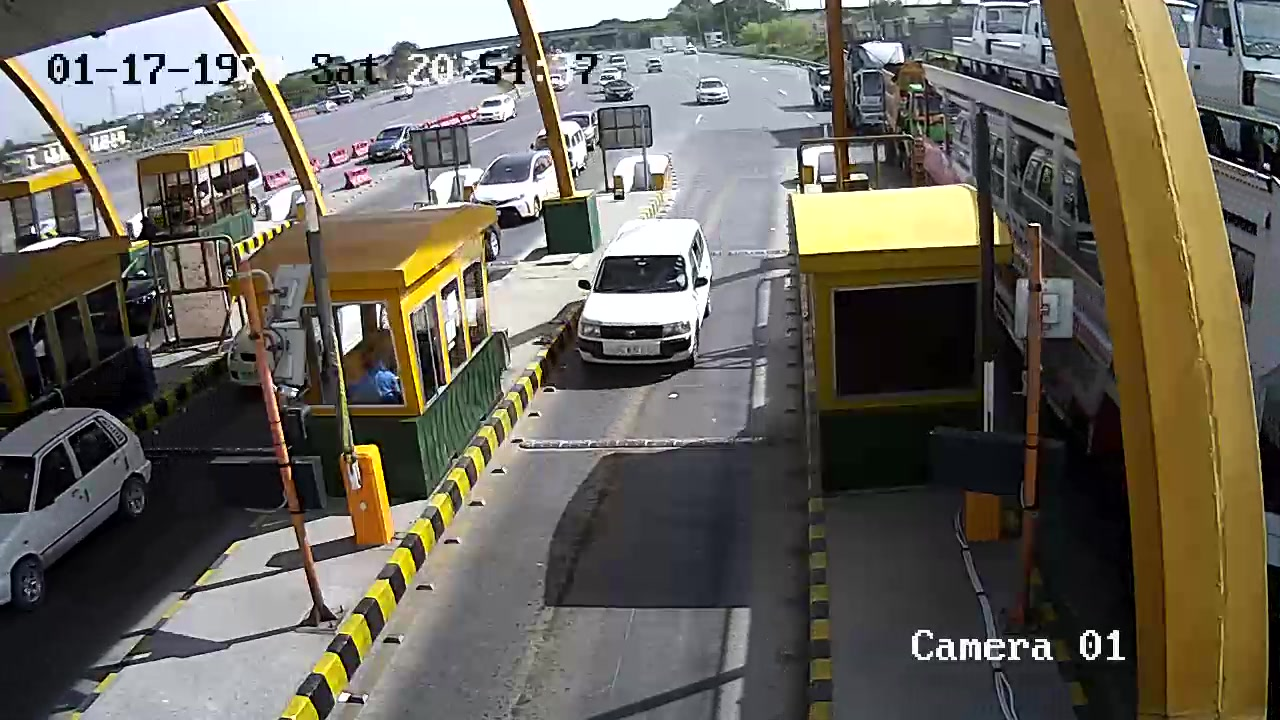F1: (577, 212, 715, 375)
